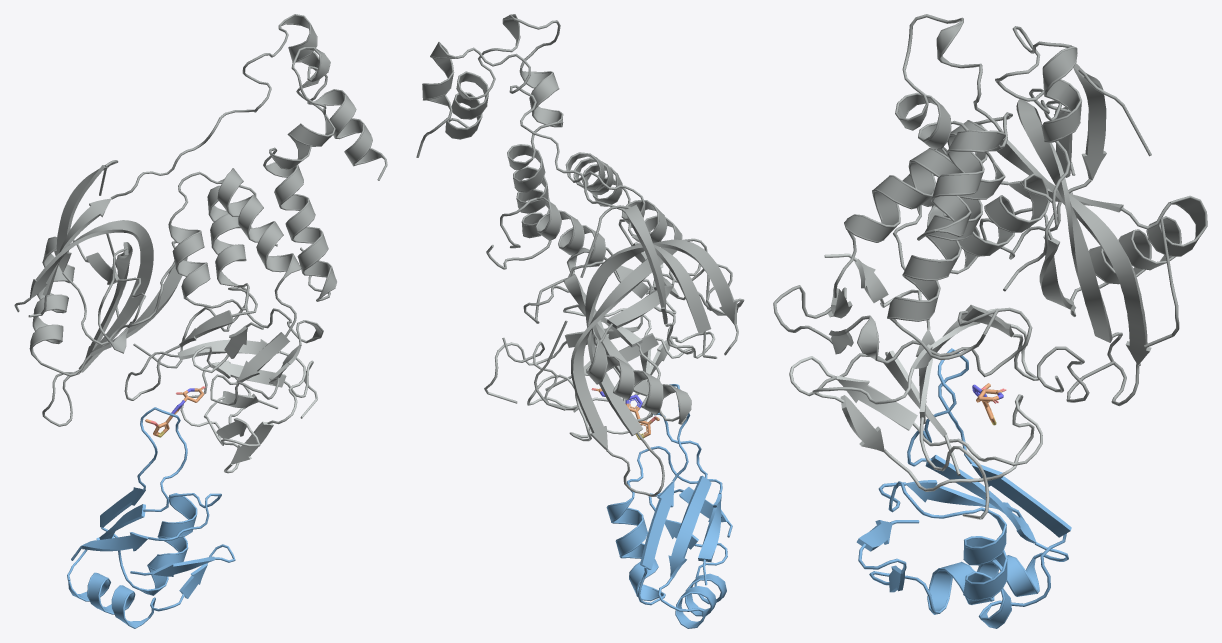
Rendered from 9DWV_reference.glb.
3 views of the same model, side by side, from view 1: azimuth 30°, elevation 25°; view 2: azimuth 150°, elevation 25°; view 3: azimuth 270°, elevation 25° (orthographic). The views are drawn at different scales.
Parts seen in each view (by area): view 1: node-geom57, node-geom58; view 2: node-geom57, node-geom58; view 3: node-geom57, node-geom58.
Boxes of the visible parts, x1,y1,x2,y2 form: node-geom57: (14,14,387,426); node-geom58: (67,322,317,628); node-geom57: (416,14,744,496); node-geom58: (484,264,732,628); node-geom57: (773,14,1207,406); node-geom58: (789,253,1071,628).
Bounding box in the file's own units: 57.4 × 89.49 × 49.74.
